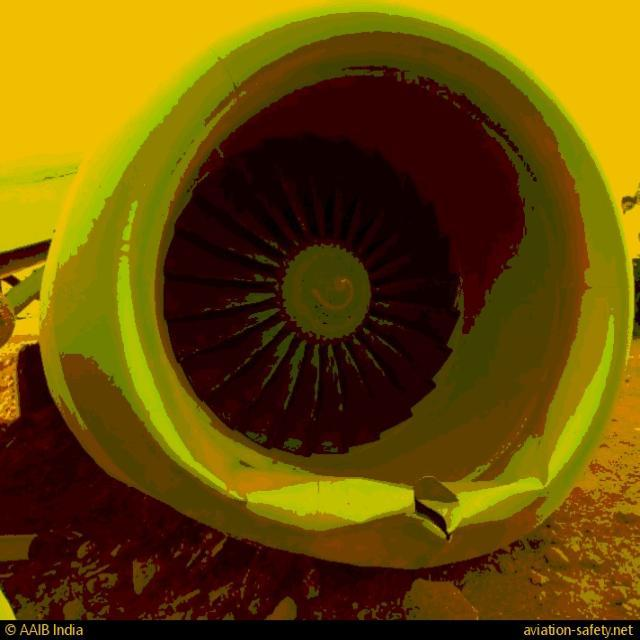crack: (412, 485, 459, 550)
dent: (235, 463, 410, 532), (506, 431, 558, 499)
